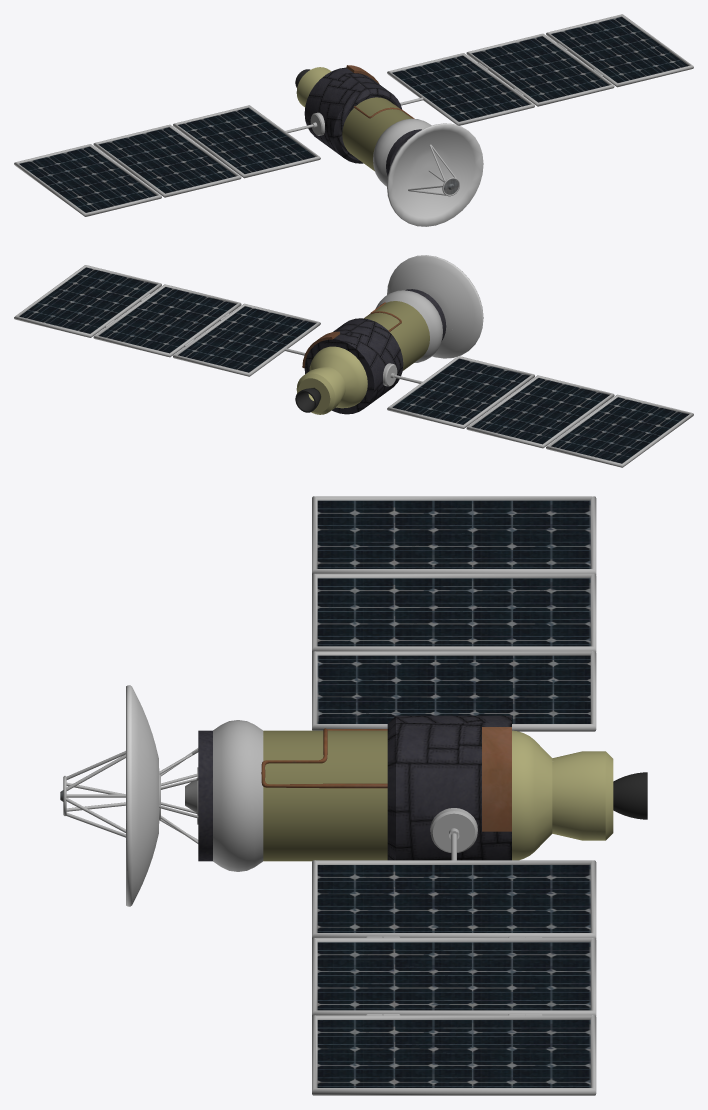
The model's file is sat.obj.
The picture shows the model from 3 angles, top to bottom: view 1: azimuth 30°, elevation 25°; view 2: azimuth 150°, elevation 25°; view 3: azimuth 270°, elevation 25°; orthographic projection. The views are drawn at different scales.
Parts seen in each view (by area): view 1: satellite; view 2: satellite; view 3: satellite.
Boxes of the visible parts, x1,y1,x2,y2 form: satellite: (14, 14, 693, 226); satellite: (14, 255, 693, 467); satellite: (60, 496, 647, 1095).
Size of the model in its own units: 10.73 by 1.69 by 4.48.
